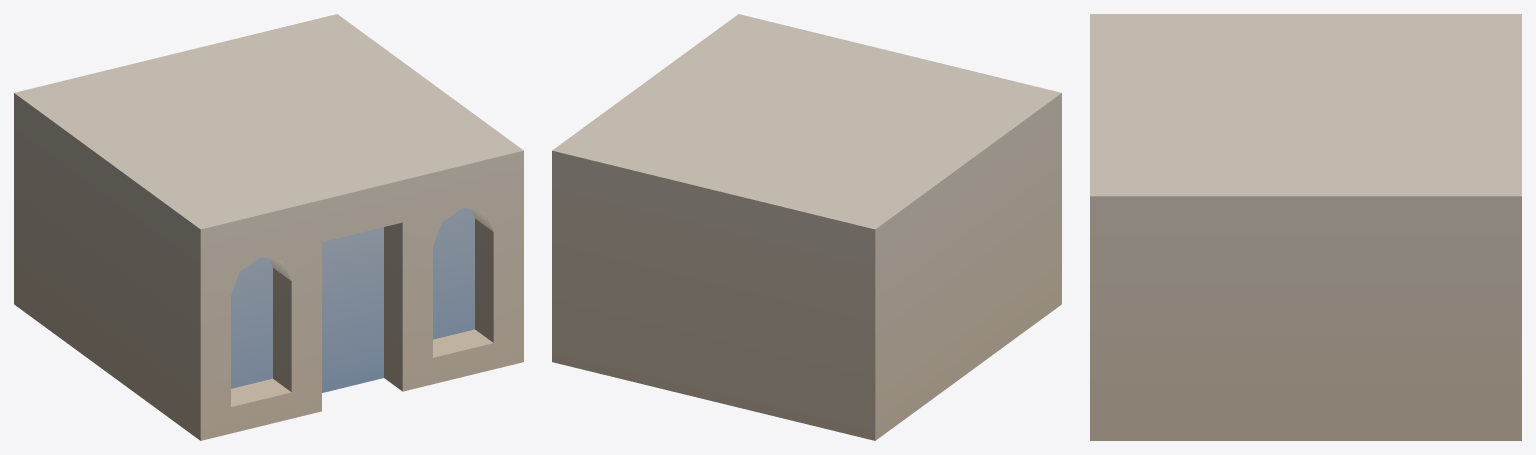
Rendered from building-window-door-window-round.glb.
3 views of the same model, side by side, from view 1: azimuth 30°, elevation 25°; view 2: azimuth 150°, elevation 25°; view 3: azimuth 270°, elevation 25° (orthographic). The views are drawn at different scales.
Parts seen in each view (by area): view 1: building-window-door-window-round; view 2: building-window-door-window-round; view 3: building-window-door-window-round.
Part boxes in pixels (x1,y1,x2,y2): building-window-door-window-round: [14, 14, 523, 440]; building-window-door-window-round: [552, 14, 1061, 440]; building-window-door-window-round: [1090, 14, 1521, 440].
Bounding box in the file's own units: 1 × 0.625 × 1.
